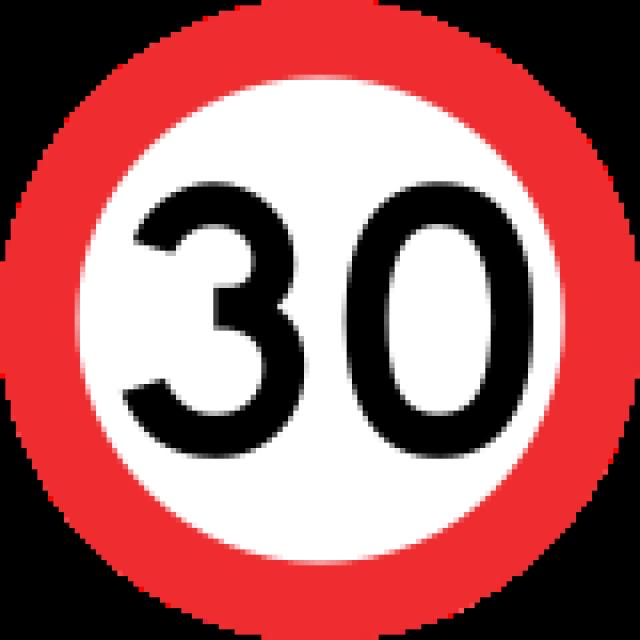Speed Limit -30-: (112, 166, 543, 465)
